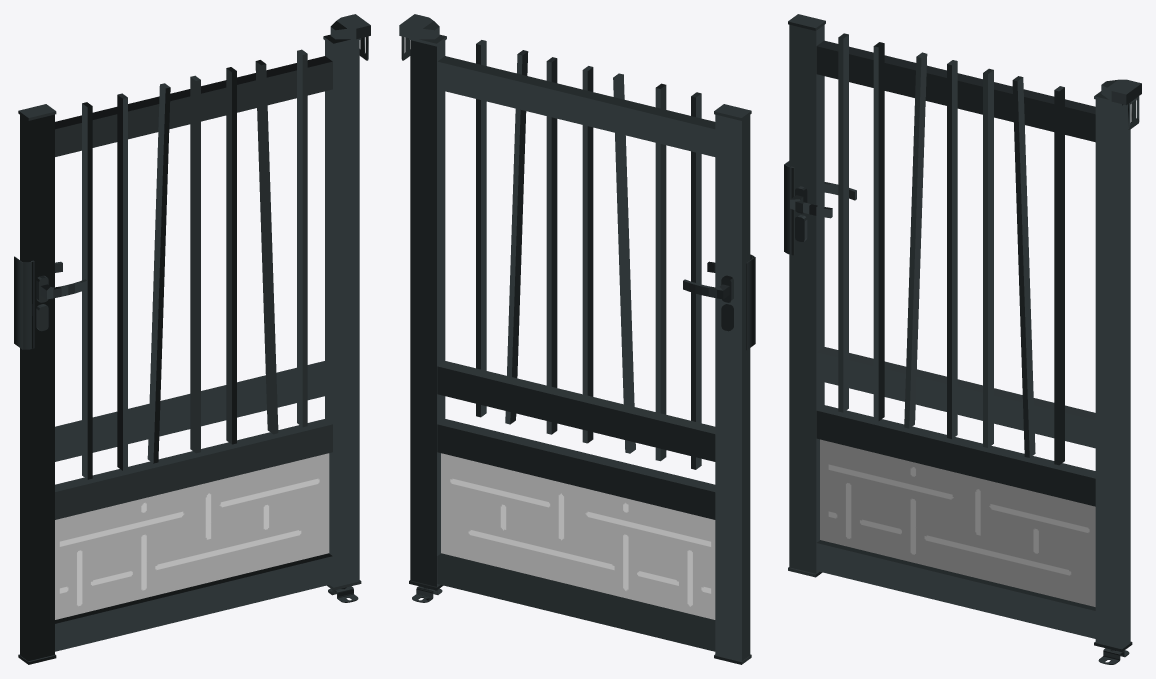
3 views of the same model, side by side, from view 1: azimuth 30°, elevation 25°; view 2: azimuth 150°, elevation 25°; view 3: azimuth 330°, elevation 25° (orthographic).
Parts seen in each view (by area): view 1: folha, priximbattable_net_portillon_aluminium_131845_portillon_kans, muleta, puxador; view 2: folha, priximbattable_net_portillon_aluminium_131845_portillon_kans, muleta, puxador; view 3: folha, priximbattable_net_portillon_aluminium_131845_portillon_kans, muleta.
Boxes of the visible parts, left/top/right/bottom form: folha: left=18, top=34, right=361, bottom=664; priximbattable_net_portillon_aluminium_131845_portillon_kans: left=14, top=14, right=370, bottom=602; muleta: left=40, top=261, right=87, bottom=299; puxador: left=36, top=275, right=48, bottom=331; folha: left=409, top=34, right=751, bottom=664; priximbattable_net_portillon_aluminium_131845_portillon_kans: left=399, top=14, right=755, bottom=602; muleta: left=683, top=261, right=729, bottom=299; puxador: left=721, top=275, right=733, bottom=331; folha: left=788, top=14, right=1132, bottom=651; priximbattable_net_portillon_aluminium_131845_portillon_kans: left=784, top=79, right=1141, bottom=664; muleta: left=790, top=182, right=856, bottom=218.
Bounding box in the file's own units: 104 × 164 × 14.86.
1 material, 1 textured.
